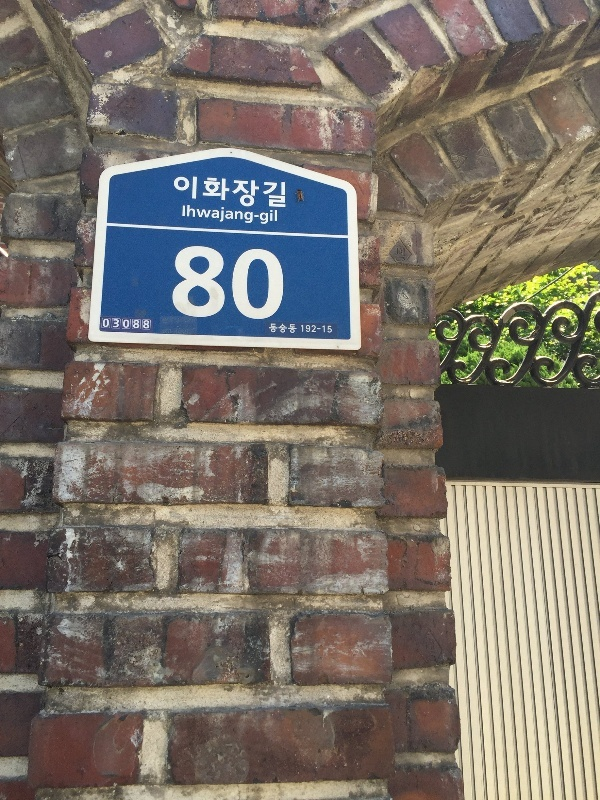text: (177, 244, 192, 321), (193, 244, 208, 321), (209, 244, 224, 321), (225, 244, 240, 321), (241, 244, 256, 321), (257, 244, 272, 321), (273, 244, 285, 321), (177, 174, 192, 214), (193, 174, 208, 214), (209, 174, 224, 214), (225, 174, 240, 214), (241, 174, 256, 214), (257, 174, 272, 214), (273, 174, 287, 214), (193, 204, 208, 227), (209, 204, 224, 227), (225, 204, 240, 227), (241, 204, 256, 227), (257, 204, 272, 227), (183, 204, 192, 227), (113, 318, 128, 329), (129, 318, 144, 329), (273, 324, 288, 334), (305, 325, 320, 334), (173, 174, 176, 214), (273, 204, 278, 227), (321, 325, 333, 334), (103, 318, 112, 329), (289, 324, 297, 334), (175, 244, 176, 321), (145, 318, 150, 329), (269, 324, 272, 334), (301, 325, 304, 334)
